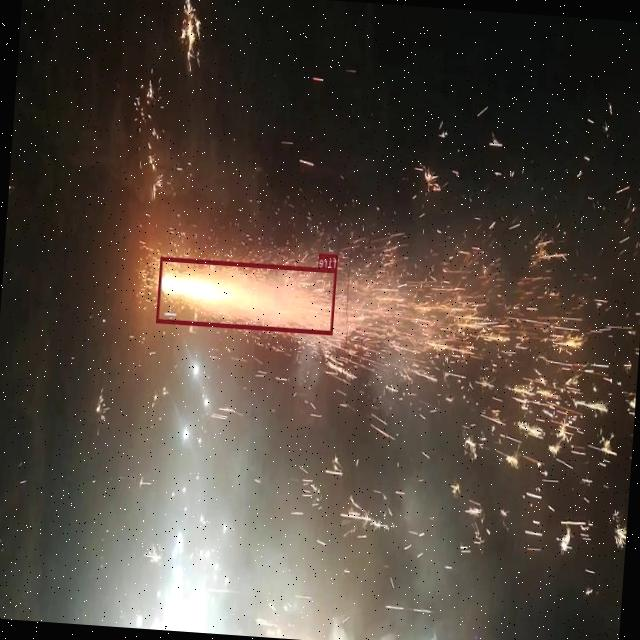fire: (156, 256, 336, 334)
